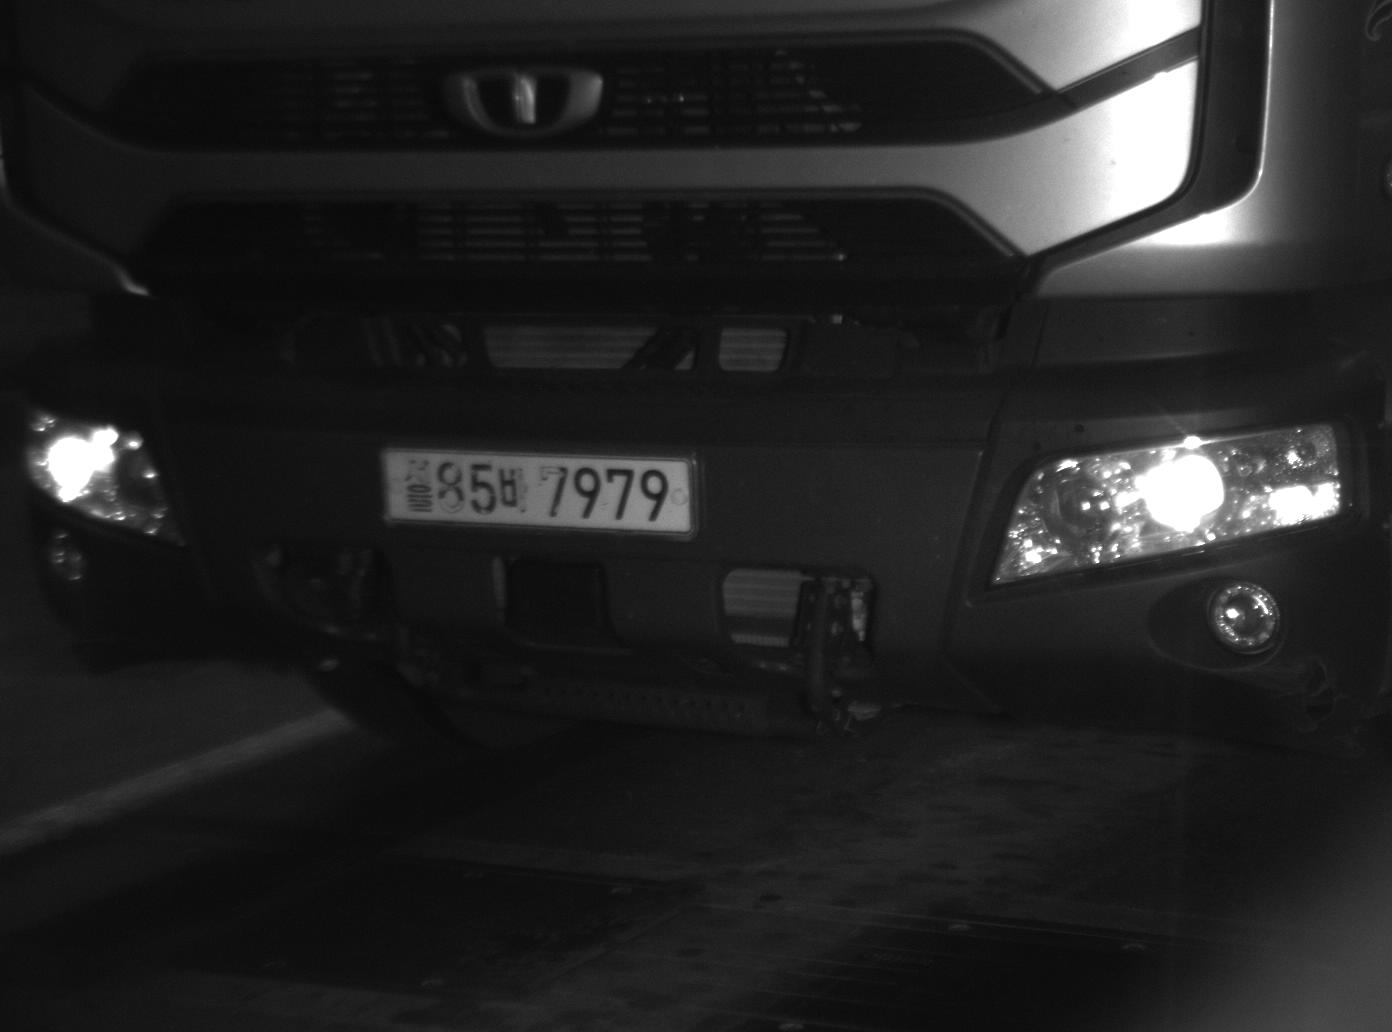car: (1, 1, 1389, 767)
plate: (376, 446, 702, 535)
